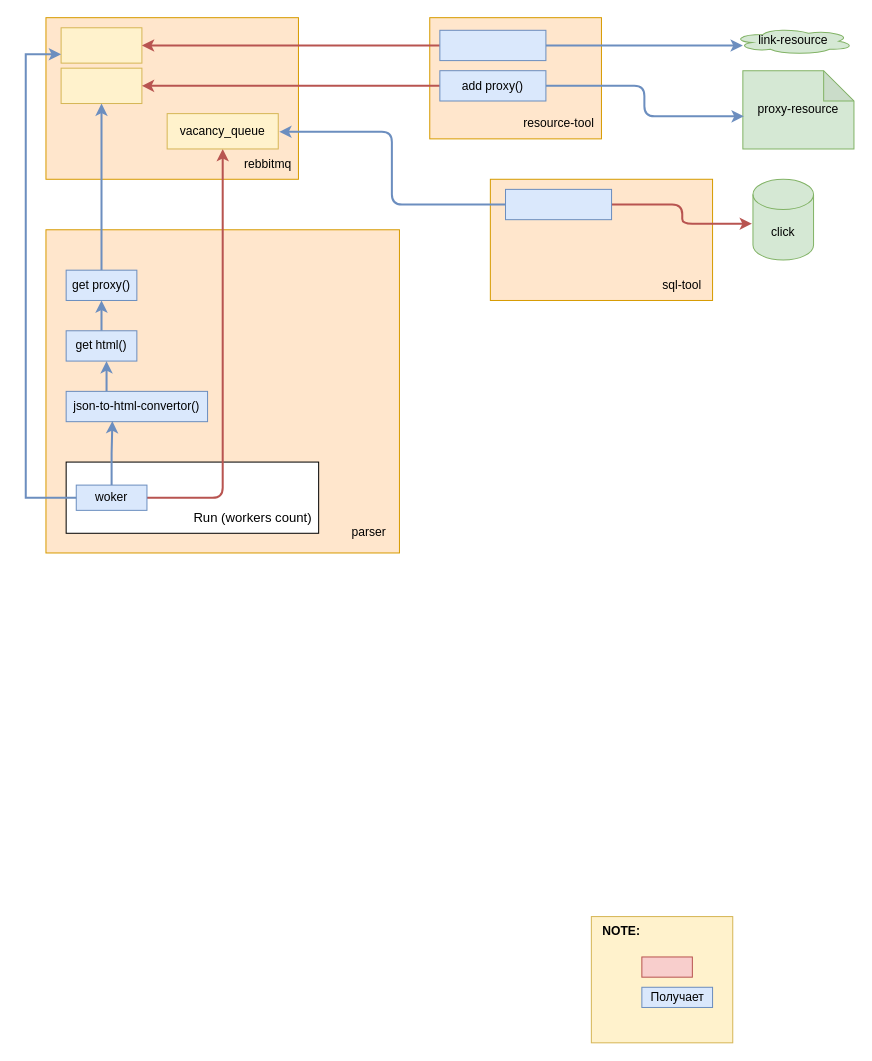
Some shapes in this 872 by 1061 pixel diagram are drawn without their labels. The shapes that lost their labels are listed below. From the top down, each one's centre as x and y in pixels, then its label:
At [101,45]: "urls_queue".
At [492,45]: "add urls()".
At [101,85]: "proxy_queue".
At [558,204]: "batch()".
At [666,966]: "Пишет".
